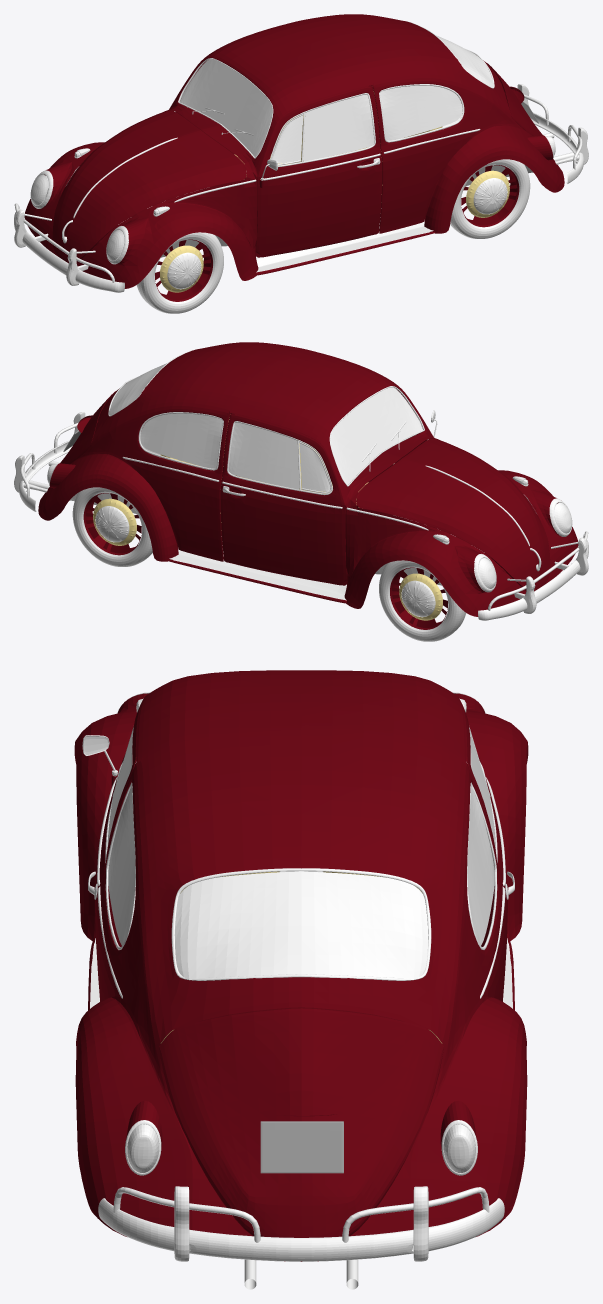
File: VolksWagen Kaferh Lowered.glb
The picture shows the model from 3 angles, top to bottom: view 1: azimuth 30°, elevation 25°; view 2: azimuth 150°, elevation 25°; view 3: azimuth 270°, elevation 25°; orthographic projection. The views are drawn at different scales.
Parts seen in each view (by area): view 1: caroserie, caroserie.001, caroserie.002, parbriz, geam fata, geam lateral spate, prag, bara fata, cauciuc.001, cauciuc, bara spate, rims (+15 smaller); view 2: caroserie, caroserie.001, caroserie.002, parbriz, geam fata, geam lateral spate, prag, bara fata, cauciuc.001, cauciuc, bara spate, rims (+15 smaller); view 3: caroserie, capota spate, luneta, bara spate, geam lateral spate, numar de inmatriculare, far spate, crom geamuri.003, bara spate subtire, caroserie.002, crom geamuri.001, geam fata (+4 smaller).
Boxes of the visible parts, bbox=[...] form: caroserie: bbox=[24, 14, 564, 288]; caroserie.001: bbox=[52, 110, 246, 263]; caroserie.002: bbox=[171, 58, 382, 257]; parbriz: bbox=[180, 59, 272, 157]; geam fata: bbox=[303, 94, 374, 161]; geam lateral spate: bbox=[380, 85, 462, 140]; prag: bbox=[66, 85, 533, 272]; bara fata: bbox=[14, 203, 124, 292]; cauciuc.001: bbox=[45, 167, 223, 313]; cauciuc: bbox=[450, 159, 530, 238]; bara spate: bbox=[517, 84, 588, 183]; rims: bbox=[461, 165, 519, 227]; caroserie: bbox=[38, 342, 578, 616]; caroserie.001: bbox=[356, 438, 550, 591]; caroserie.002: bbox=[220, 386, 431, 585]; parbriz: bbox=[330, 387, 422, 485]; geam fata: bbox=[228, 422, 299, 489]; geam lateral spate: bbox=[140, 413, 222, 468]; prag: bbox=[69, 413, 536, 600]; bara fata: bbox=[478, 531, 588, 620]; cauciuc.001: bbox=[379, 495, 557, 641]; cauciuc: bbox=[72, 487, 152, 566]; bara spate: bbox=[14, 412, 85, 511]; rims: bbox=[83, 493, 141, 555]; caroserie: bbox=[74, 670, 528, 1261]; capota spate: bbox=[159, 1008, 443, 1237]; luneta: bbox=[174, 871, 428, 979]; bara spate: bbox=[98, 1186, 504, 1261]; geam lateral spate: bbox=[108, 786, 494, 945]; numar de inmatriculare: bbox=[260, 1121, 343, 1173]; far spate: bbox=[127, 1124, 475, 1172]; crom geamuri.003: bbox=[171, 868, 431, 980]; bara spate subtire: bbox=[113, 1187, 489, 1242]; caroserie.002: bbox=[95, 699, 507, 946]; crom geamuri.001: bbox=[105, 782, 497, 949]; geam fata: bbox=[107, 731, 495, 848].
Bounding box in the file's own units: 6.9 × 2.42 × 2.59.
